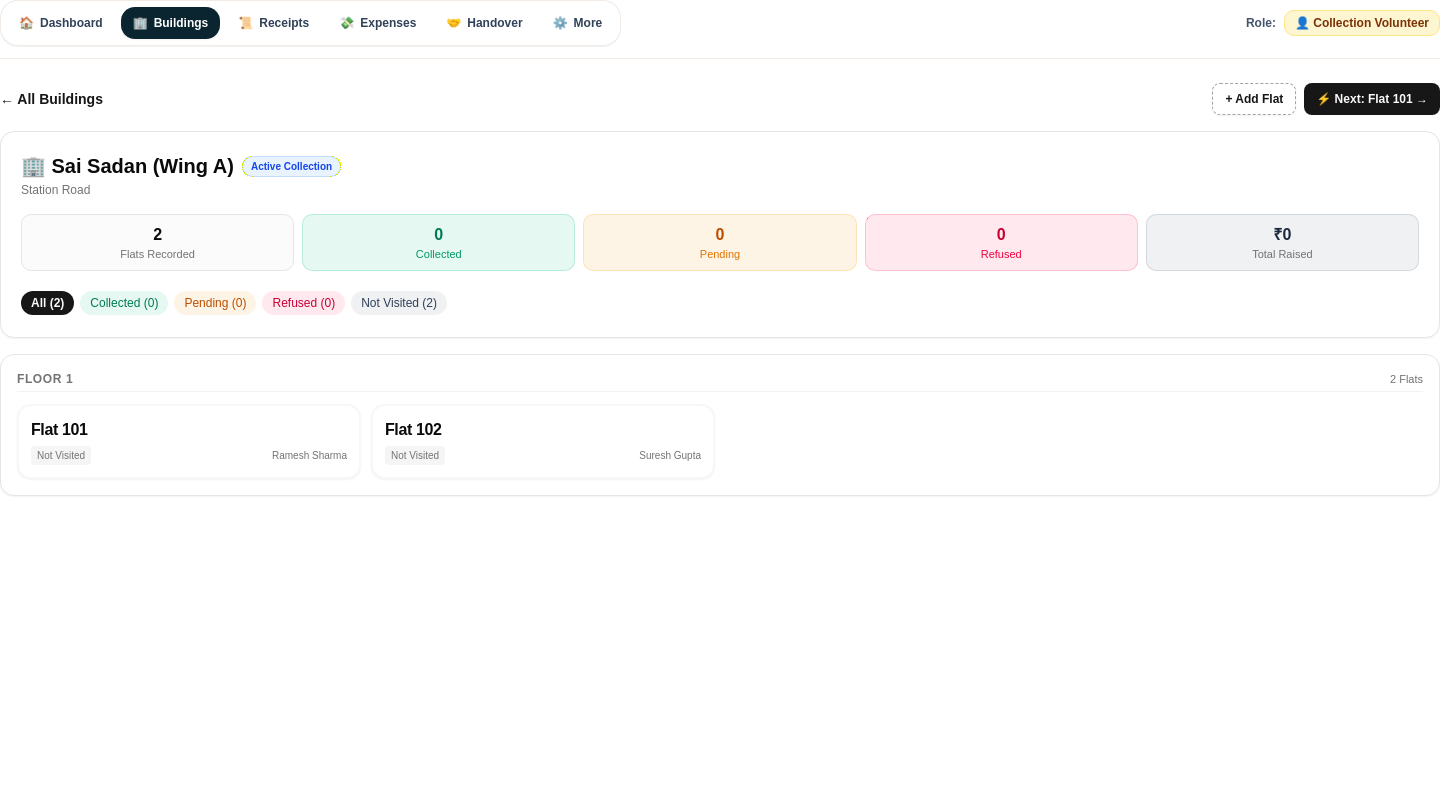
Test: Pending Flat Navigation UX Regression Tests › TEST A — Normal Receipt collection flow remains intact and returns to the SAME Building page on 'Done'
Click on Flat 101 to open receipt modal
Click the text "Flat 101" at (59, 430), box [31,418,87,442]
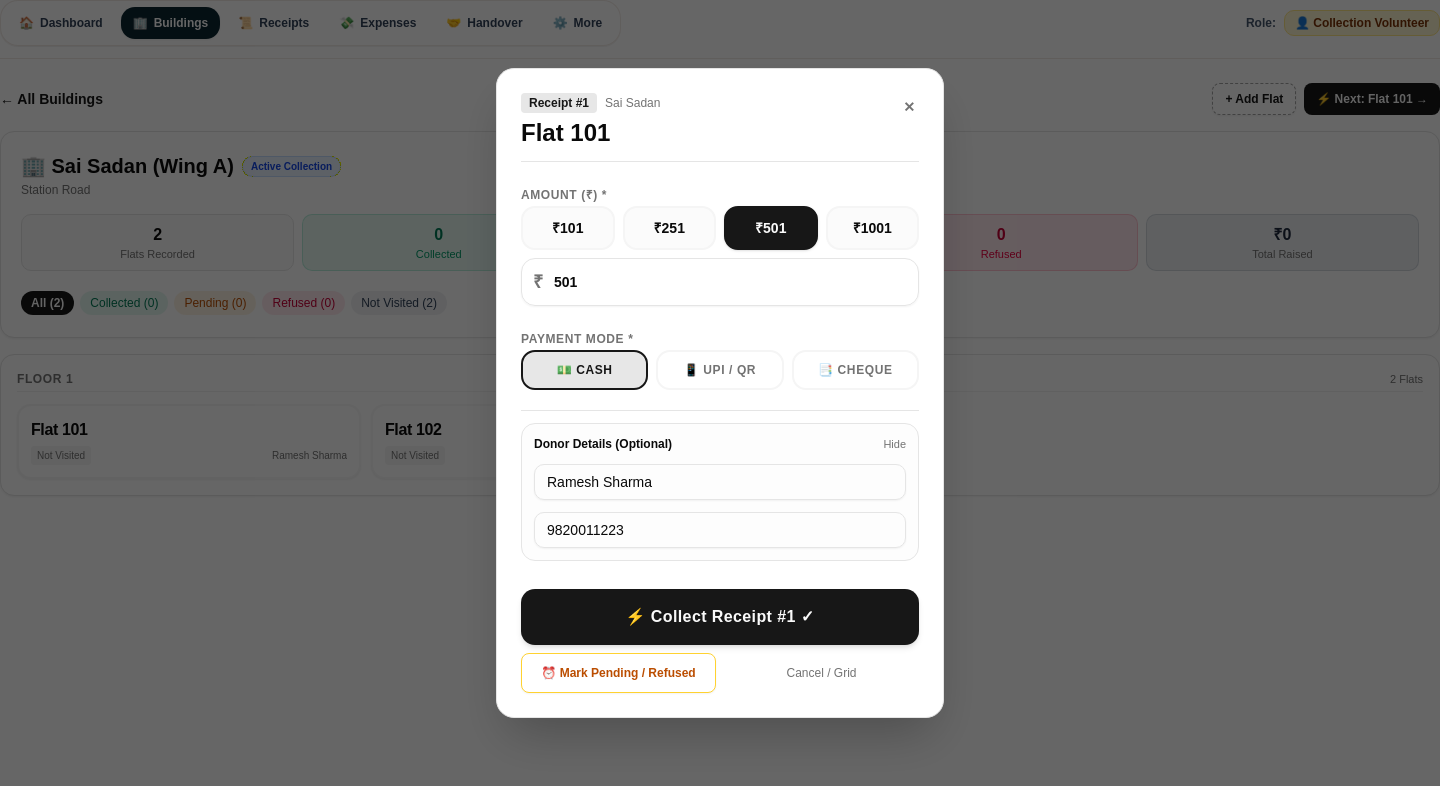
expect the text "Receipt #1" is shown: met, box [521,93,597,113]
Collect receipt
Click the button "⚡ Collect Receipt #1 ✓" at (720, 617), box [521,589,919,645]
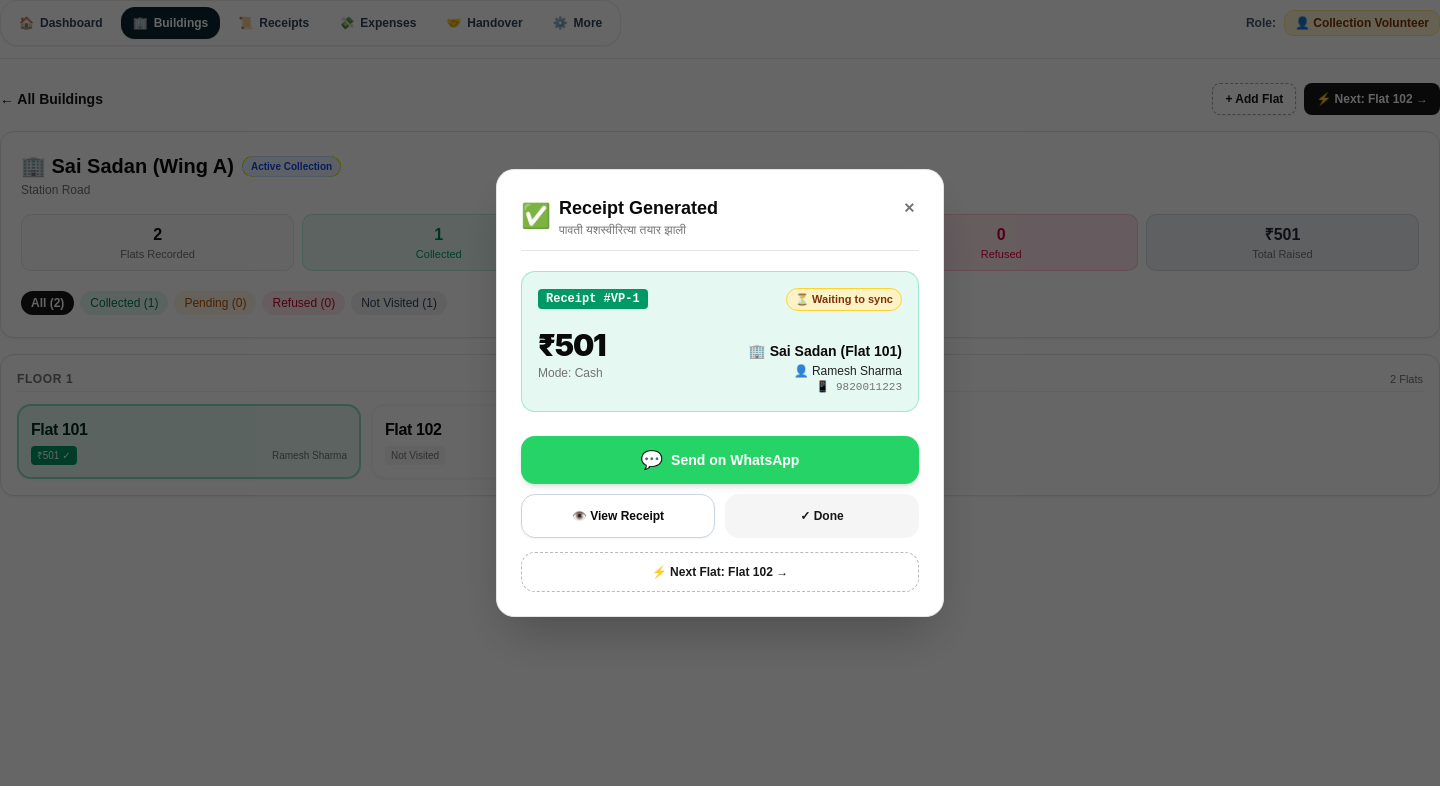
expect the heading "Receipt Generated" is shown: met, box [559,194,718,222]
Click "Done" on confirmation dialog
Click the button with test id "confirmation-done-btn" at (822, 516), box [725,494,919,538]
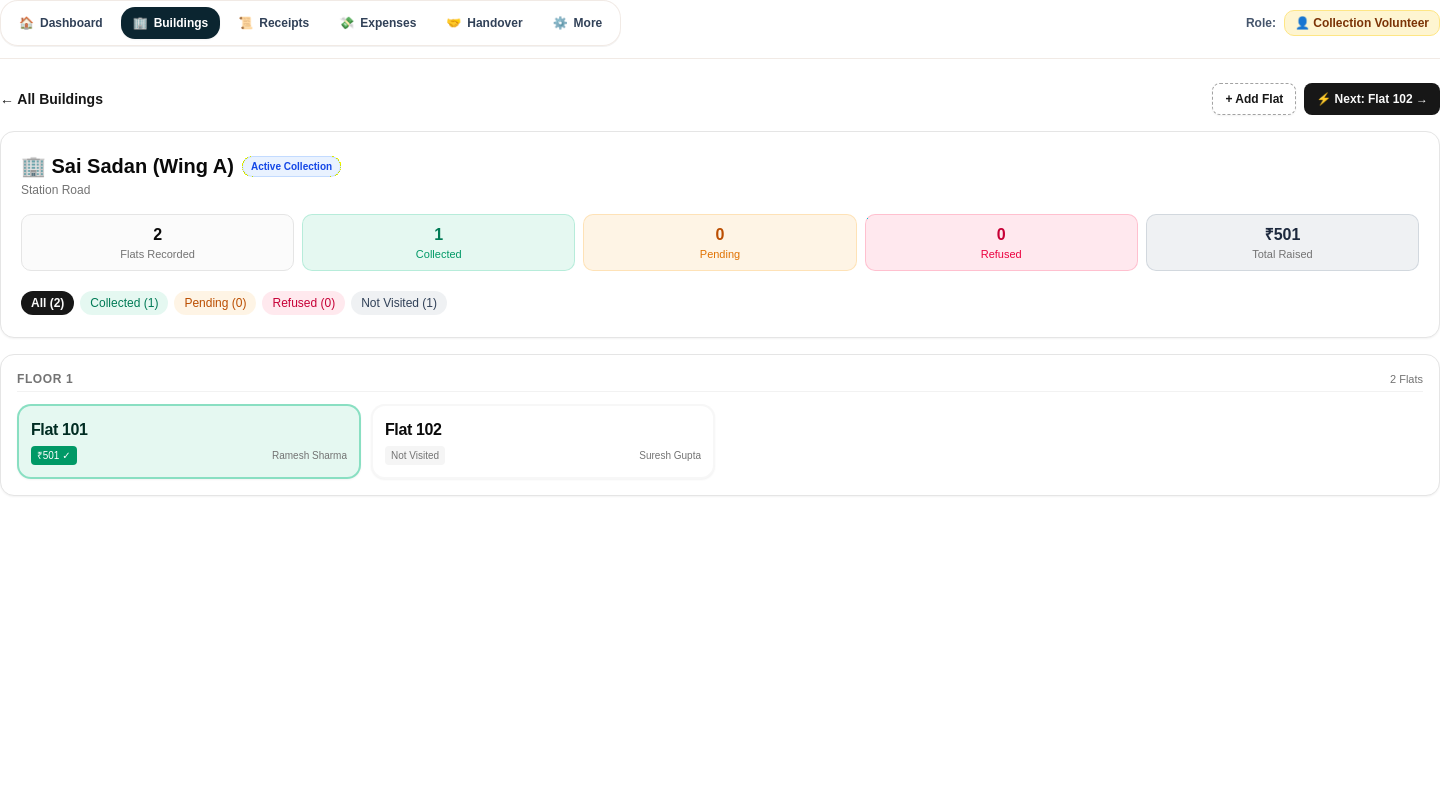
expect the heading "🏢 Sai Sadan (Wing A)" is shown: met, box [21,152,234,180]
expect the heading "Receipt Generated" is gone: met
